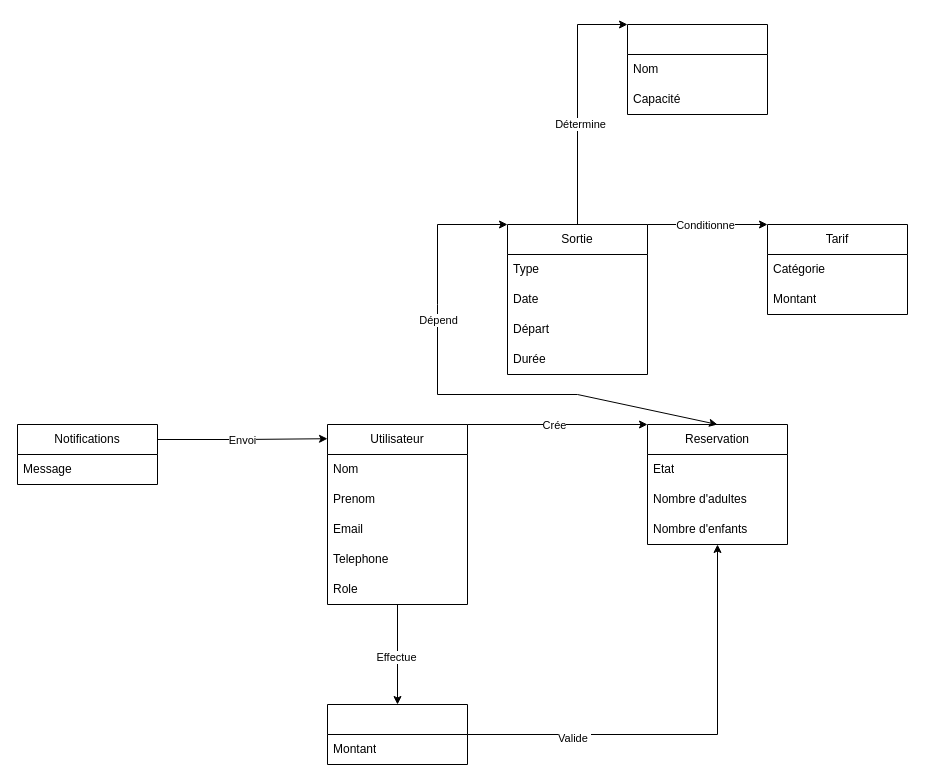
Image size: 925x782. Some labels were removed from this diagram. The shapes that lost their labels are listed below. From the top down, each one's box as (x1, y1, x2, y2) in pixels, then its label:
(626, 24, 768, 114): Bateau
(326, 704, 468, 764): Paiement
